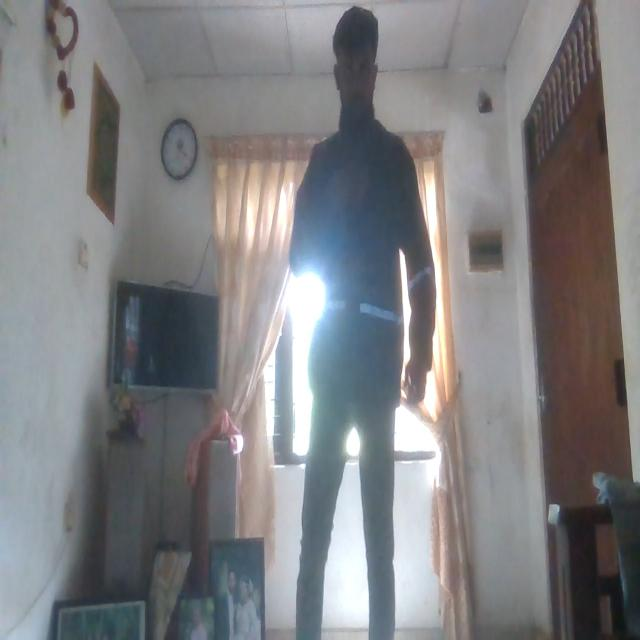Helmet_Wearer: (293, 117, 443, 417)
Person: (294, 5, 438, 640)
